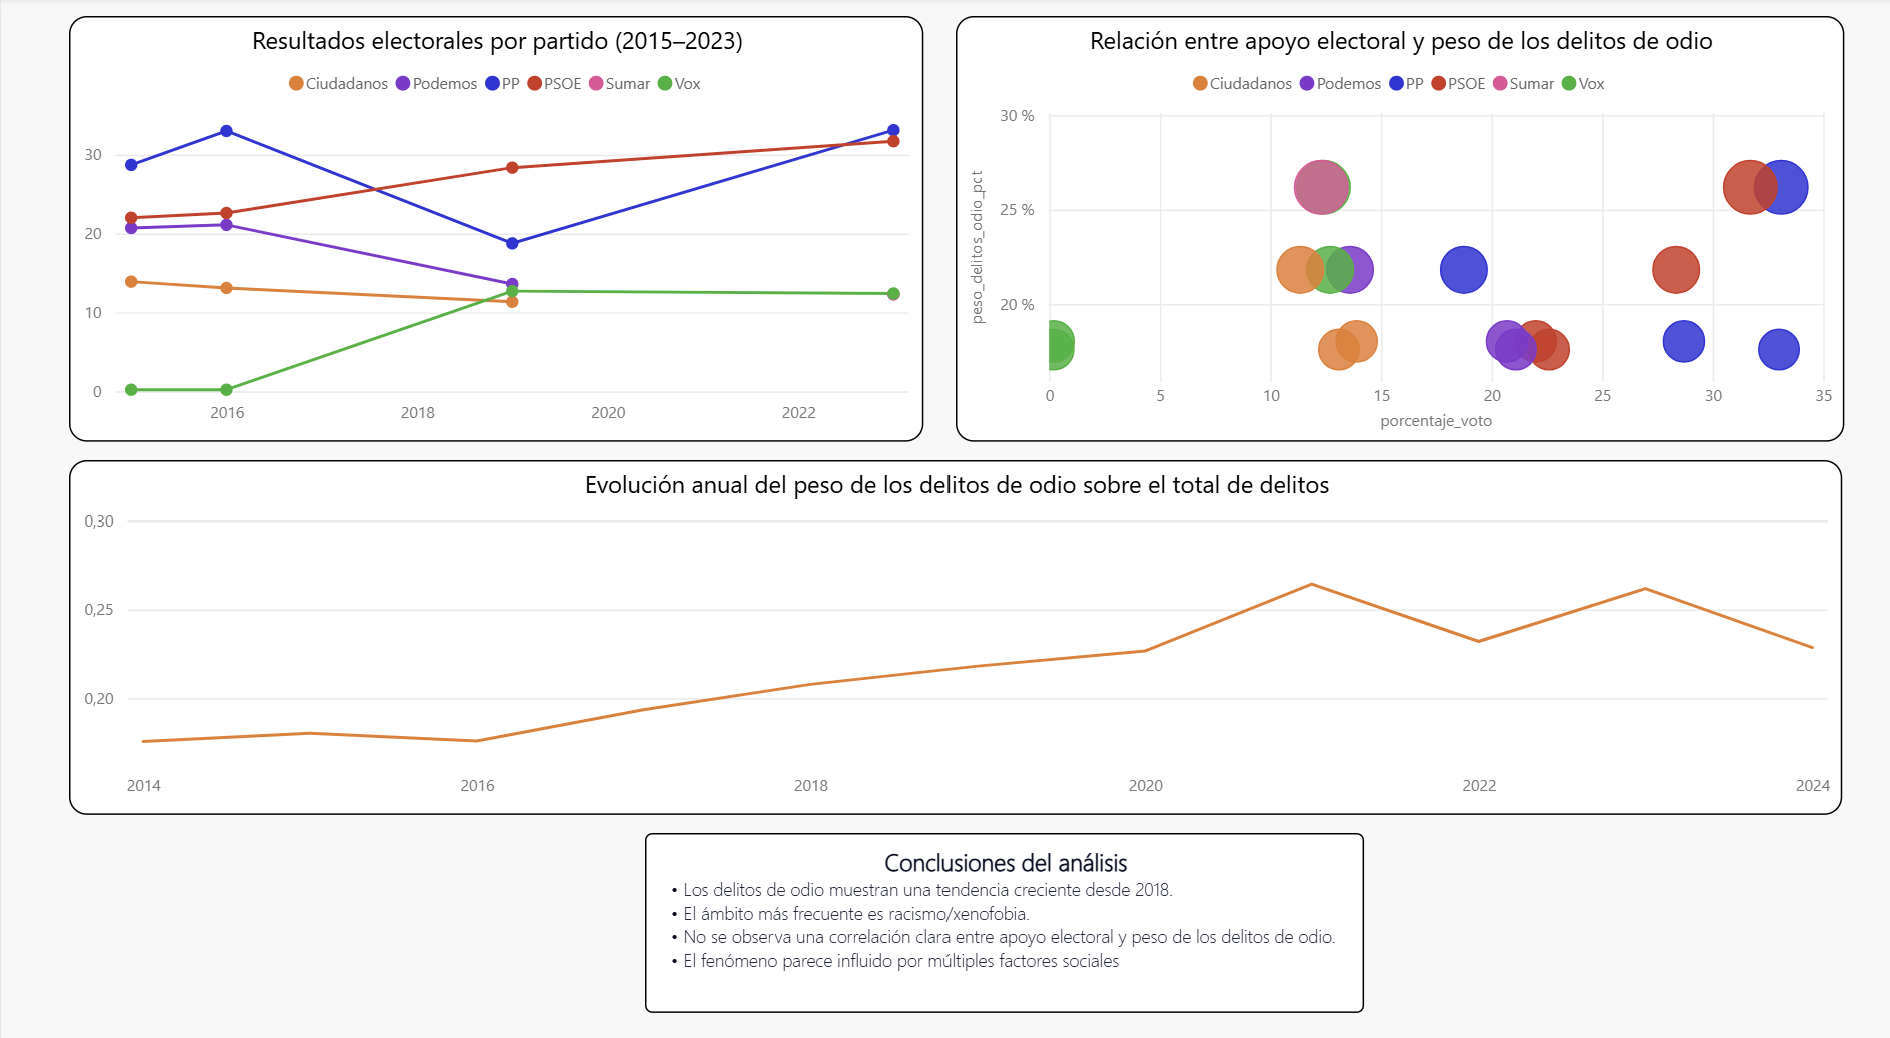

Layout of this report page (visuals, bound fields, positions):
{"tool":"powerbi","page":{"name":"Página 2","canvas":[1280,720],"ordinal":1},"visuals":[{"type":"lineChart","title":"Resultados electorales por partido (2015–2023)","fields":{"Category":["analisis_politico_delitos_odio.año"],"Series":["analisis_politico_delitos_odio.partido"],"Y":["Sum(analisis_politico_delitos_odio.porcentaje_voto)"]},"box":[45.9,13.5,576.8,287.7],"z":0},{"type":"scatterChart","title":"Relación entre apoyo electoral y peso de los delitos de odio","fields":{"Series":["analisis_politico_delitos_odio.partido"],"Size":["Sum(analisis_politico_delitos_odio.delitos_odio)"],"X":["analisis_politico_delitos_odio.porcentaje_voto"],"Y":["analisis_politico_delitos_odio.peso_delitos_odio_pct"]},"box":[644.4,13.5,599.8,287.7],"z":1000},{"type":"lineChart","title":"Evolución anual del peso de los delitos de odio sobre el total de delitos","fields":{"Category":["analisis_politico_delitos_odio.año"],"Y":["Avg(analisis_politico_delitos_odio.peso_delitos_odio_pct)"]},"box":[45.9,313.4,1196.8,239.1],"z":2000},{"type":"textbox","box":[435,564.7,485,121.6],"z":2001}]}

Visuals, with their boxes in screenshot pixels (x1, y1, x2, y2), scaled from the page's 1280x720 canvas onto the 1890x1038 screenshot:
"Resultados electorales por partido (2015–2023)" lineChart: 68 19 919 434
"Relación entre apoyo electoral y peso de los delitos de odio" scatterChart: 951 19 1837 434
"Evolución anual del peso de los delitos de odio sobre el total de delitos" lineChart: 68 452 1835 797
textbox: 642 814 1358 989
